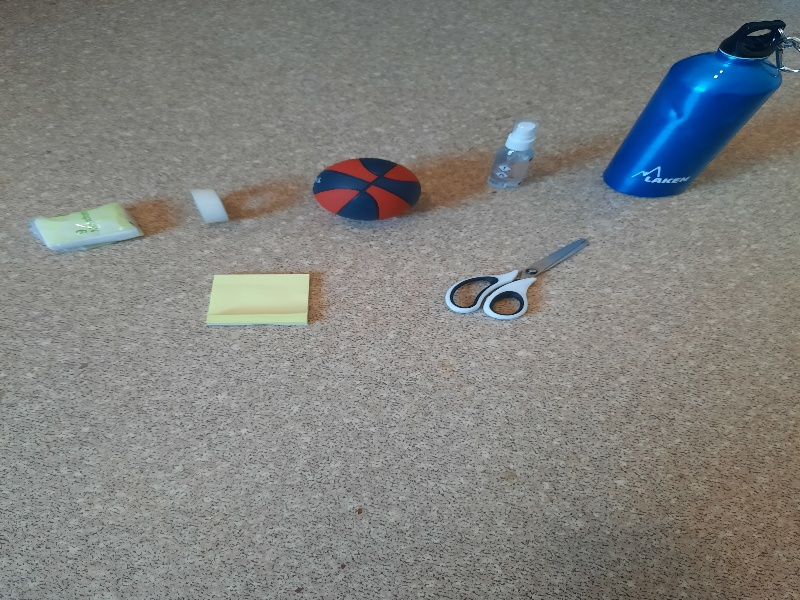ballon: (314, 156, 423, 219)
ciseaux: (444, 236, 594, 323)
gel: (482, 120, 541, 191)
gourde: (602, 18, 800, 199)
mouchoirs: (30, 202, 151, 252)
post-it: (202, 272, 314, 328)
scotch: (189, 184, 231, 225)
